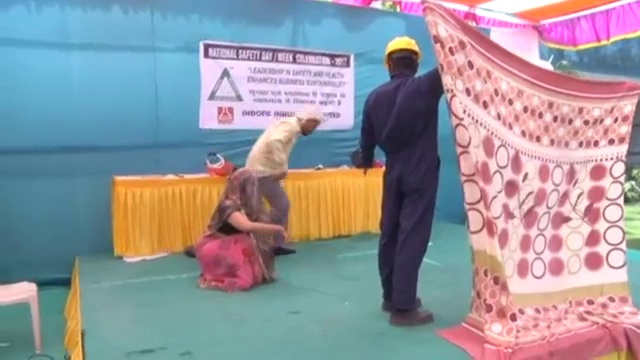helmet: (384, 34, 422, 68)
helmet_off: (230, 167, 258, 201), (298, 105, 322, 139)
helmet_on: (383, 33, 422, 81)
person: (353, 34, 445, 326), (245, 103, 322, 255), (197, 167, 285, 297)
